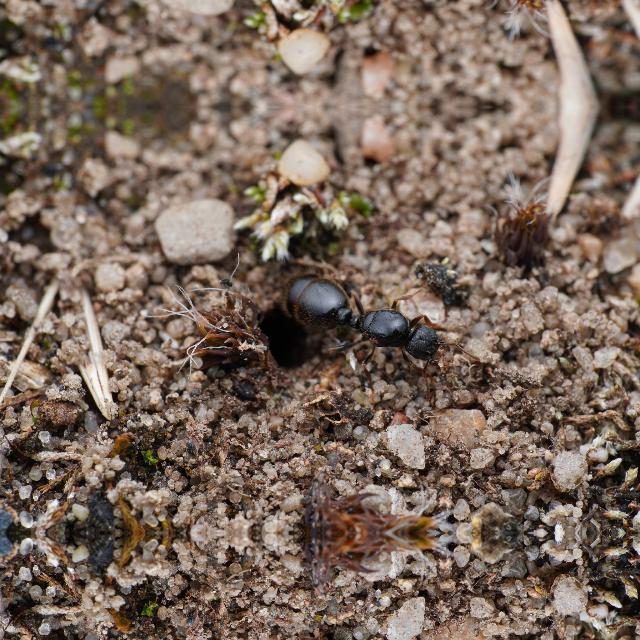Tetramorium: (266, 251, 472, 381)
